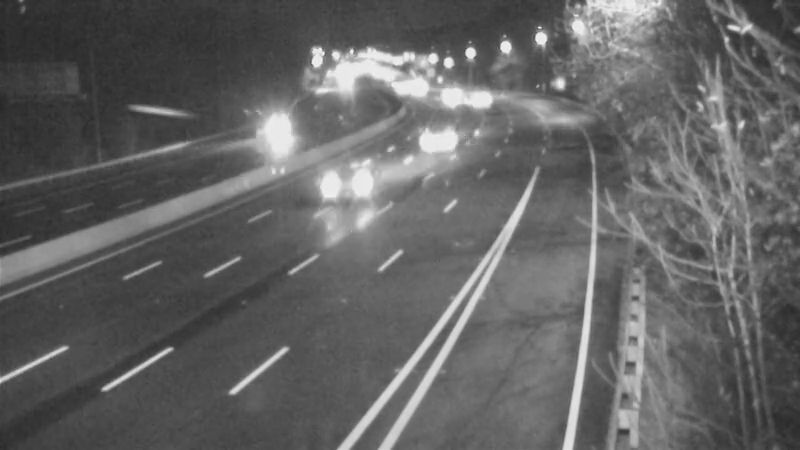vehicle: (312, 154, 392, 234), (416, 65, 466, 115), (454, 72, 504, 122), (398, 115, 448, 165), (250, 116, 300, 166)
